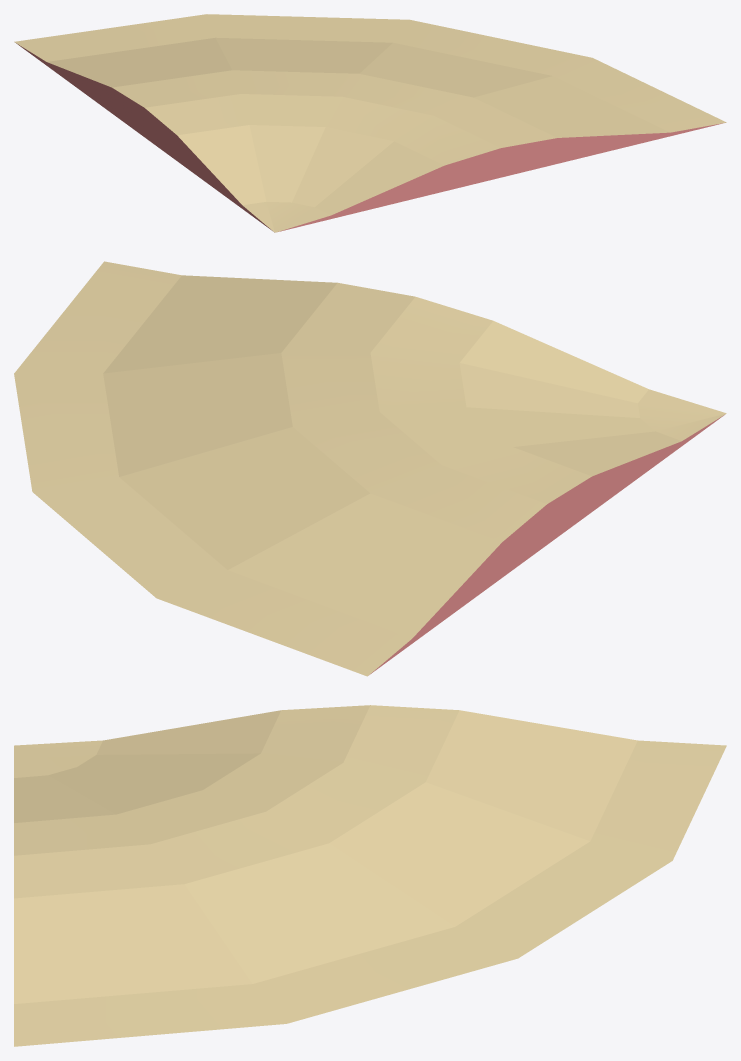
File: Terrain_Sand_Incline_Curve_Both_8x8.glb
3 views of the same model, one above another, from view 1: azimuth 30°, elevation 25°; view 2: azimuth 150°, elevation 25°; view 3: azimuth 270°, elevation 25° (orthographic). The views are drawn at different scales.
Visible parts, largest first — view 1: Terrain_Sand_Incline_Curve_Both_8x8; view 2: Terrain_Sand_Incline_Curve_Both_8x8; view 3: Terrain_Sand_Incline_Curve_Both_8x8.
Part boxes in pixels (bbox=[...]): Terrain_Sand_Incline_Curve_Both_8x8: bbox=[14, 14, 726, 232]; Terrain_Sand_Incline_Curve_Both_8x8: bbox=[14, 261, 726, 676]; Terrain_Sand_Incline_Curve_Both_8x8: bbox=[14, 705, 726, 1046].
Bounding box in the file's own units: 800 × 50 × 800.
